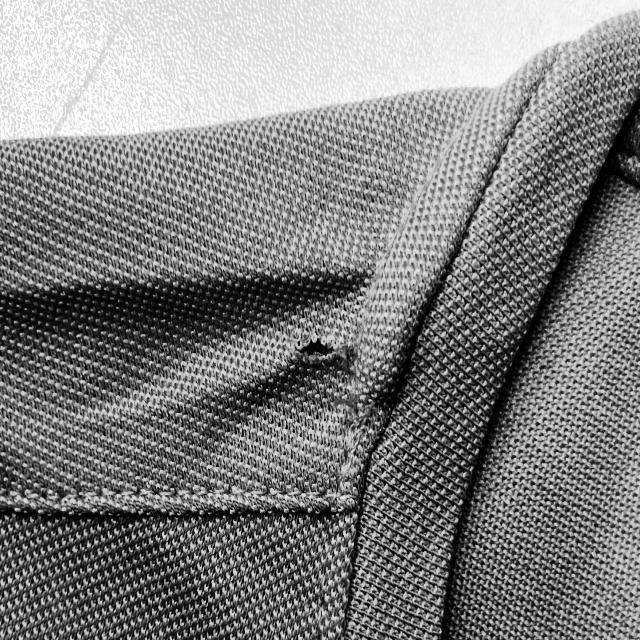Hole: (285, 318, 350, 383)
